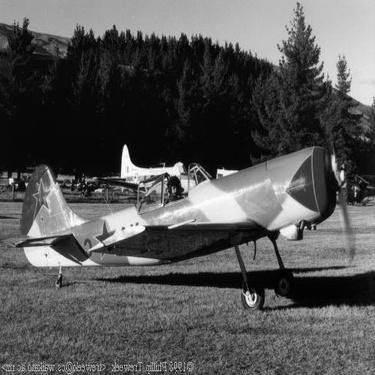airplane: (15, 88, 361, 337), (88, 131, 203, 207)
